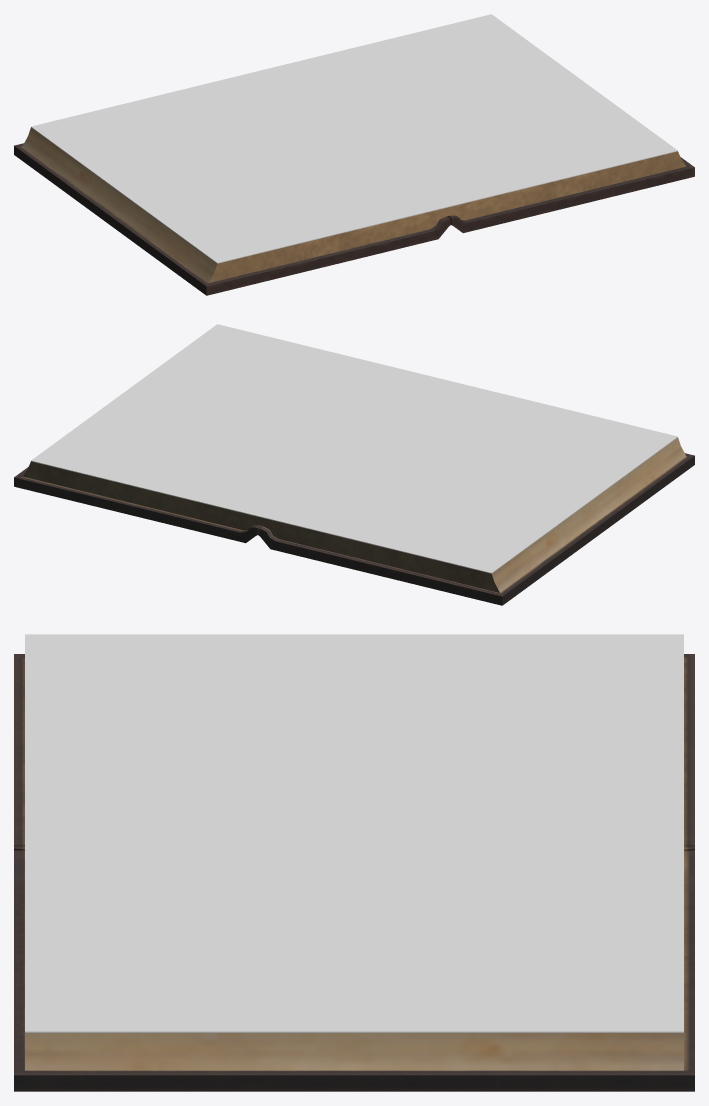
File: Prayer Book (1).fbx
The picture shows the model from 3 angles, top to bottom: view 1: azimuth 30°, elevation 25°; view 2: azimuth 150°, elevation 25°; view 3: azimuth 270°, elevation 25°; orthographic projection. The views are drawn at different scales.
Visible parts, largest first — view 1: Page L, Page R, Left, Right; view 2: Page L, Page R, Left, Right; view 3: Page R, Page L, Right, Left.
Part boxes in pixels (x1=…): Page L: x1=31, y1=70, x2=447, y2=263; Page R: x1=261, y1=14, x2=677, y2=207; Left: x1=14, y1=127, x2=450, y2=295; Right: x1=447, y1=151, x2=694, y2=233; Page L: x1=261, y1=380, x2=677, y2=573; Page R: x1=31, y1=324, x2=447, y2=517; Left: x1=258, y1=437, x2=694, y2=605; Right: x1=14, y1=461, x2=261, y2=543; Page R: x1=25, y1=833, x2=683, y2=1032; Page L: x1=25, y1=634, x2=683, y2=832; Right: x1=14, y1=849, x2=694, y2=1091; Left: x1=14, y1=654, x2=694, y2=849.
Size of the model in its own units: 36.45 by 1.94 by 24.9.
